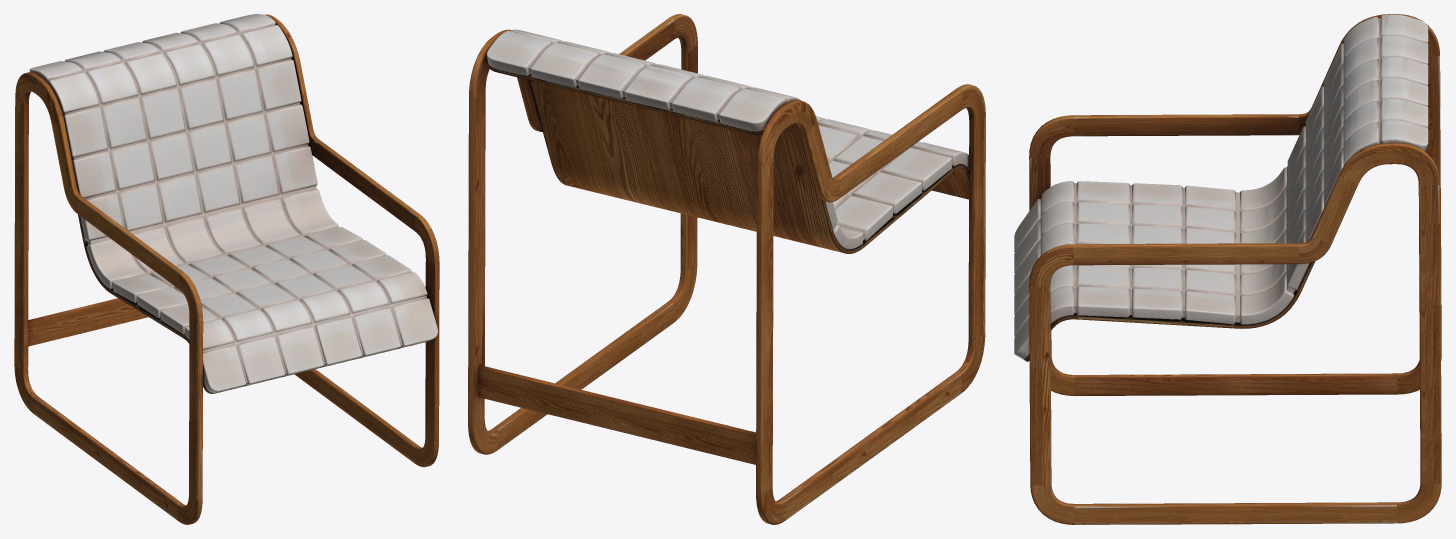
The model's file is armchair_my_download_like_please_vra.glb.
3 renders of one model, left to right at view 1: azimuth 30°, elevation 25°; view 2: azimuth 150°, elevation 25°; view 3: azimuth 270°, elevation 25°, orthographic. The views are drawn at different scales.
Parts seen in each view (by area): view 1: Object_14, Object_8, Object_11; view 2: Object_8, Object_11, Object_14; view 3: Object_14, Object_8, Object_11.
Boxes of the visible parts, <box> form: Object_14: <box>29,14,437,392</box>; Object_8: <box>14,14,439,524</box>; Object_11: <box>78,215,427,393</box>; Object_8: <box>468,14,985,524</box>; Object_11: <box>488,64,968,253</box>; Object_14: <box>486,29,968,249</box>; Object_14: <box>1014,14,1428,359</box>; Object_8: <box>1029,14,1441,524</box>; Object_11: <box>1024,261,1314,361</box>.
Bounding box in the file's own units: 0.5891 × 0.7982 × 0.8073.
Materials: 3 (3 with a texture image).
